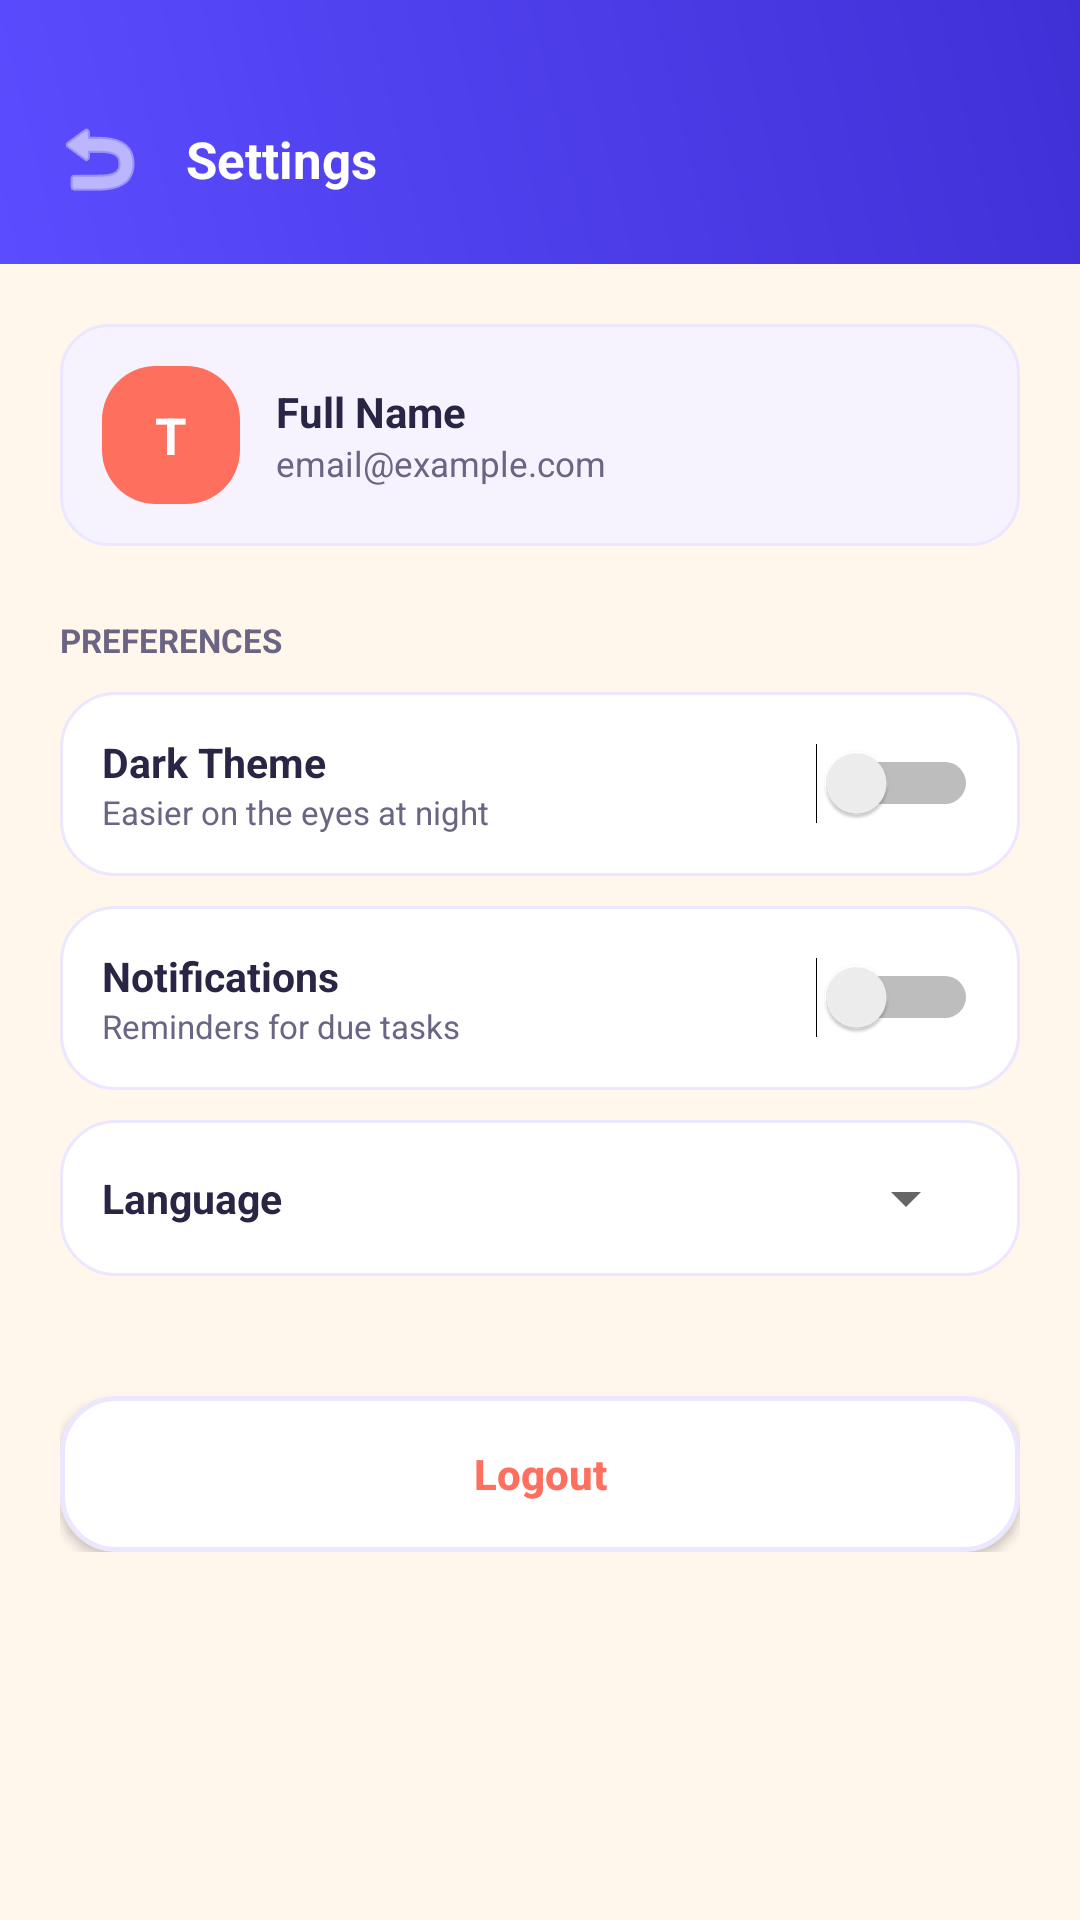

Icon bounding boxes for this 1080×1920 phone screenshot, format (x1, y1, x2, y2):
Back: (66, 128, 135, 191)
